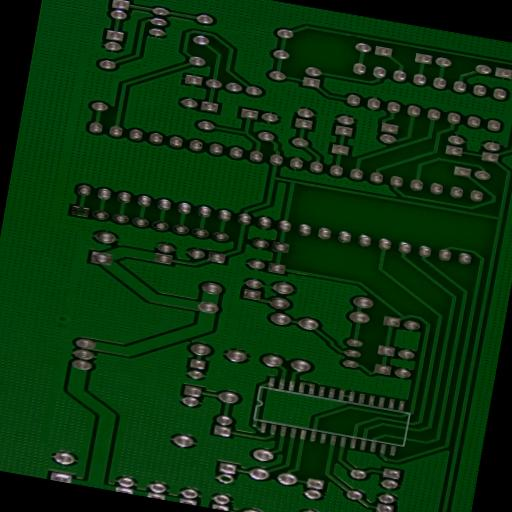missing_hole: (214, 471, 236, 484), (72, 205, 89, 216), (298, 506, 320, 512)
